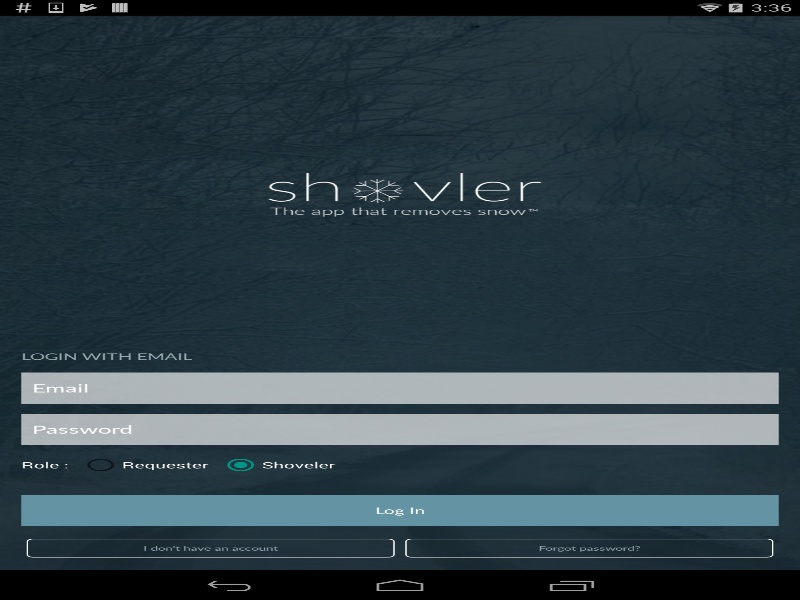Button: (21, 495, 778, 526), (26, 538, 394, 557), (405, 538, 773, 557)
Input: (21, 413, 778, 445), (21, 372, 778, 403)
